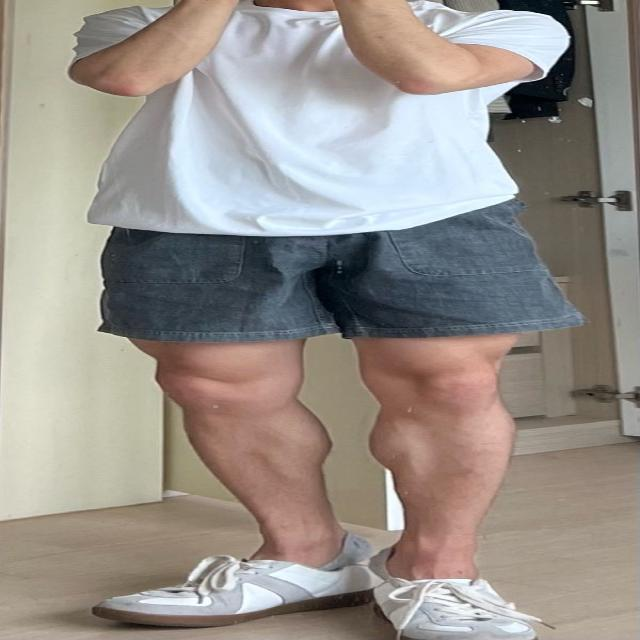shortpants: (99, 195, 586, 339)
shortsleeve: (77, 0, 574, 232)
